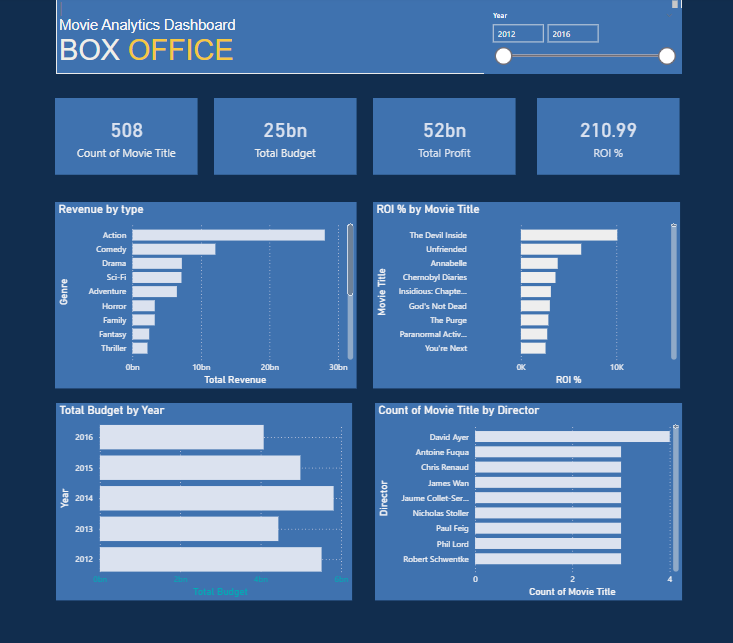

What the dashboard file says about the page in this screenshot:
{"tool":"powerbi","page":{"name":"Movie","canvas":[1920,1080],"ordinal":0},"visuals":[{"type":"card","fields":{"Values":["CountNonNull(Sheet2.Movie Title)"]},"box":[253.8,146.7,208,112],"z":0},{"type":"barChart","title":"Revenue by type","fields":{"Category":["Sheet2.Genre"],"Y":["Sheet2.Total Revenue"]},"box":[253.8,298.7,440,272],"z":1000},{"type":"clusteredBarChart","fields":{"Category":["Sheet2.Movie Title"],"Y":["Sheet2.ROI %"]},"box":[717.8,298.7,448,272],"z":2000},{"type":"barChart","fields":{"Category":["Sheet2.Director"],"Y":["CountNonNull(Sheet2.Movie Title)"]},"box":[720,592,448,288],"z":3000},{"type":"barChart","fields":{"Y":["Sheet2.Total Budget"],"Category":["Sheet2.Release Date.Variation.Date Hierarchy.Year"]},"box":[256,592,432,288],"z":4000},{"type":"card","fields":{"Values":["Sheet2.Total Budget"]},"box":[485.8,146.7,208,112],"z":5000},{"type":"card","fields":{"Values":["Sheet2.Total Profit"]},"box":[717.8,146.7,208,112],"z":6000},{"type":"card","fields":{"Values":["Sheet2.ROI %"]},"box":[957.8,146.7,208,112],"z":7000},{"type":"textbox","box":[256,0,912,112],"z":8000},{"type":"slicer","fields":{"Values":["Sheet2.Year"]},"box":[880,16,288,96],"z":8001}]}

Visuals, with their boxes on the page's 1920x1080 design canvas (x1, y1, x2, y2). These are canvas units, not pixel positions in the 733x643 screenshot, which may show the page scaled, cropped or inside an application window:
card - CountNonNull(Sheet2.Movie Title): 254:147:462:259
"Revenue by type" barChart: 254:299:694:571
clusteredBarChart - Sheet2.Movie Title x Sheet2.ROI %: 718:299:1166:571
barChart - Sheet2.Director x CountNonNull(Sheet2.Movie Title): 720:592:1168:880
barChart - Sheet2.Total Budget x Sheet2.Release Date.Variation.Date Hierarchy.Year: 256:592:688:880
card - Sheet2.Total Budget: 486:147:694:259
card - Sheet2.Total Profit: 718:147:926:259
card - Sheet2.ROI %: 958:147:1166:259
textbox: 256:0:1168:112
slicer - Sheet2.Year: 880:16:1168:112
